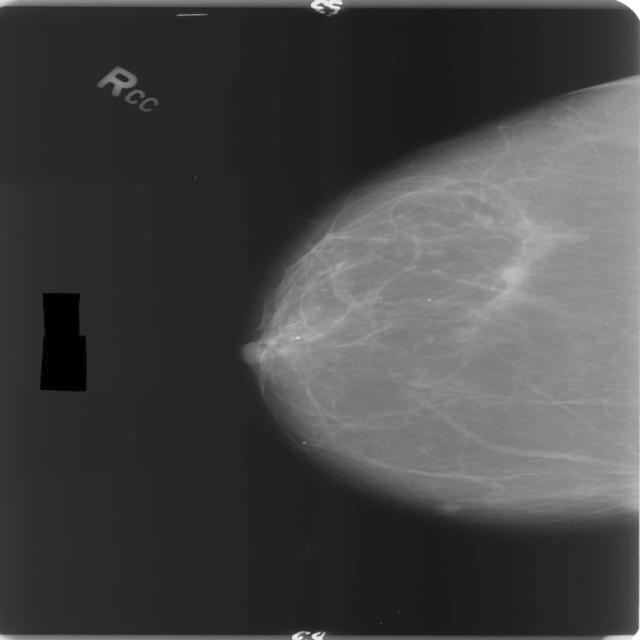tumour: (498, 264, 526, 290)
